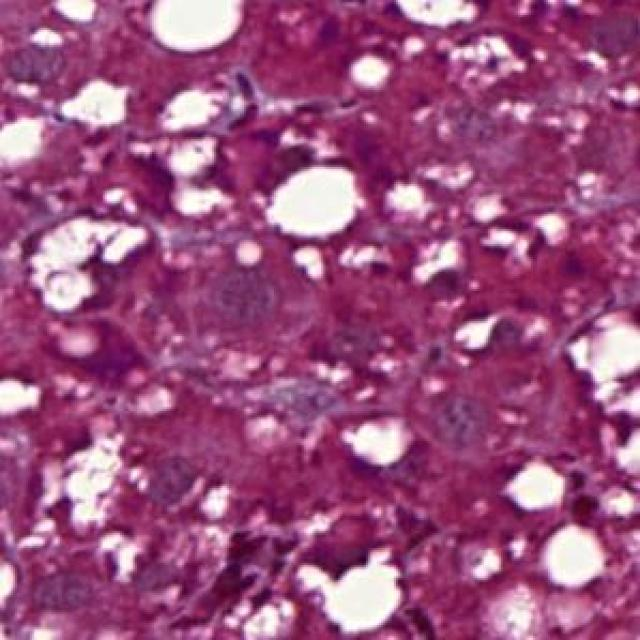ballooning: (22, 212, 154, 325)
